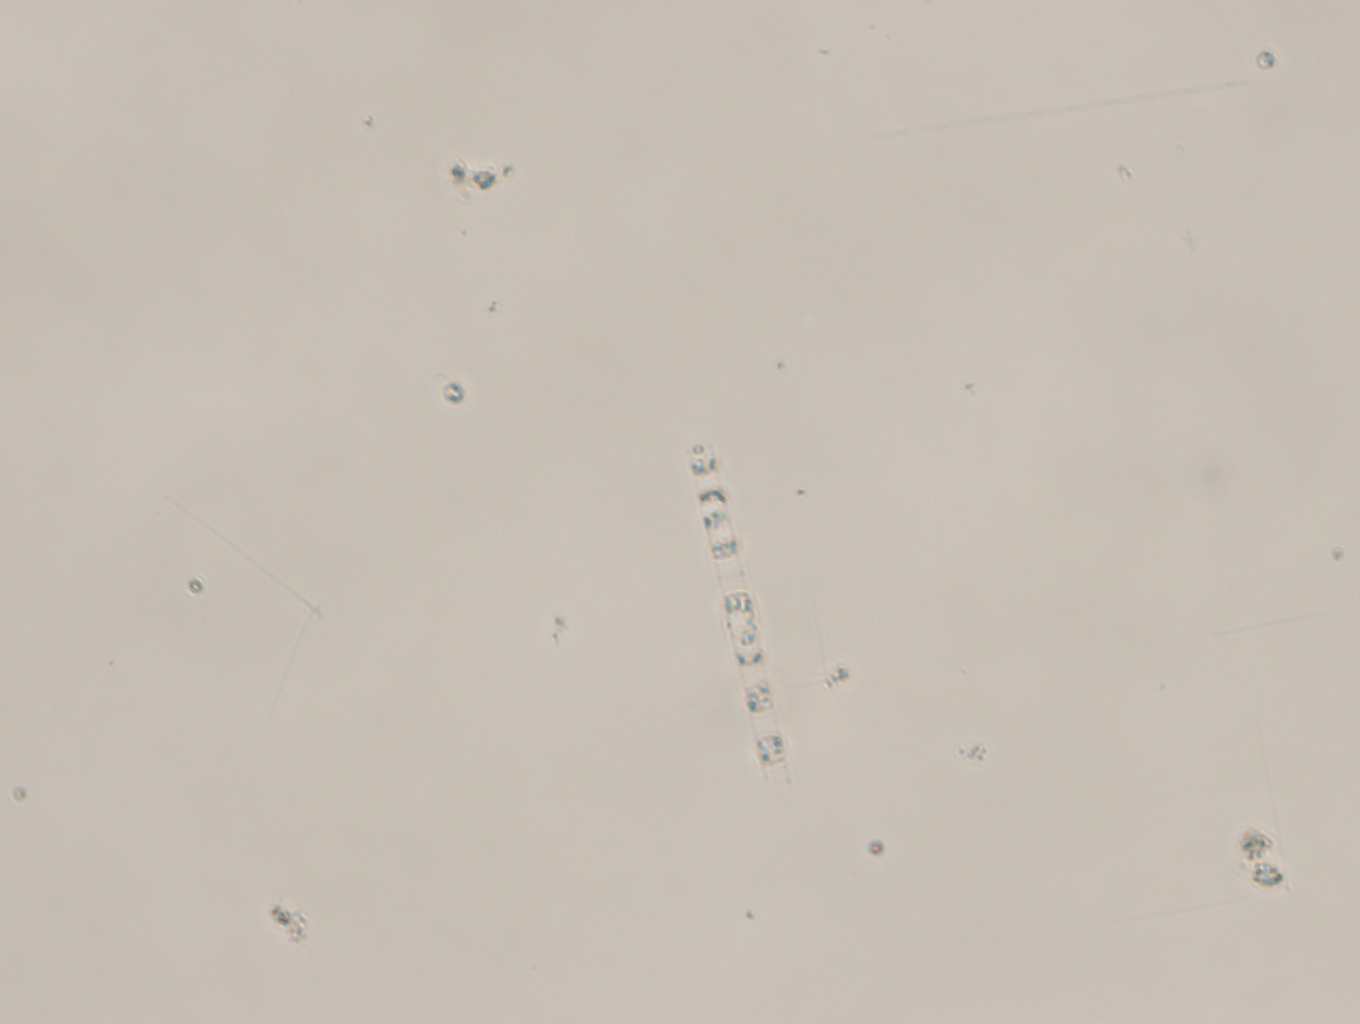skeletonema: (673, 436, 793, 781)
